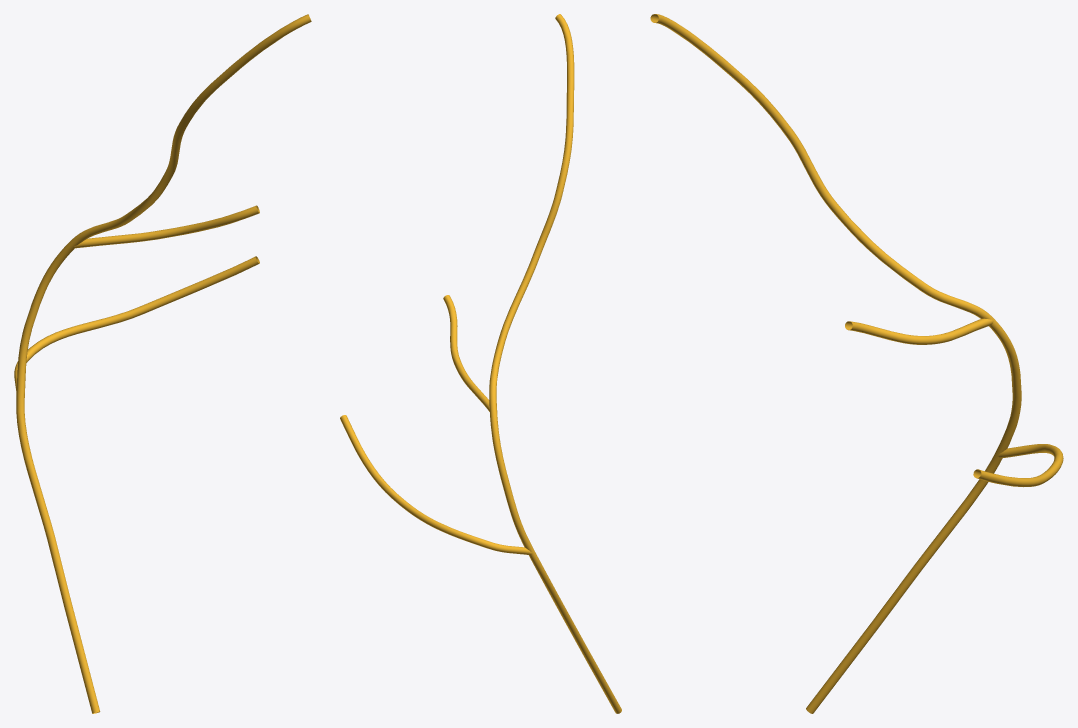
File: nervoso-posterior-root-of-posterior-femoral-cutaneous-nerve-r.glb
3 views of the same model, side by side, from view 1: azimuth 30°, elevation 25°; view 2: azimuth 150°, elevation 25°; view 3: azimuth 270°, elevation 25° (orthographic). The views are drawn at different scales.
Parts seen in each view (by area): view 1: Posterior root of posterior femoral cutaneous nerve.r; view 2: Posterior root of posterior femoral cutaneous nerve.r; view 3: Posterior root of posterior femoral cutaneous nerve.r.
Boxes of the visible parts, x1,y1,x2,y2 form: Posterior root of posterior femoral cutaneous nerve.r: (14,14,311,713); Posterior root of posterior femoral cutaneous nerve.r: (340,14,621,713); Posterior root of posterior femoral cutaneous nerve.r: (650,14,1063,713).
Bounding box in the file's own units: 0.0334 × 0.0935 × 0.0453.
